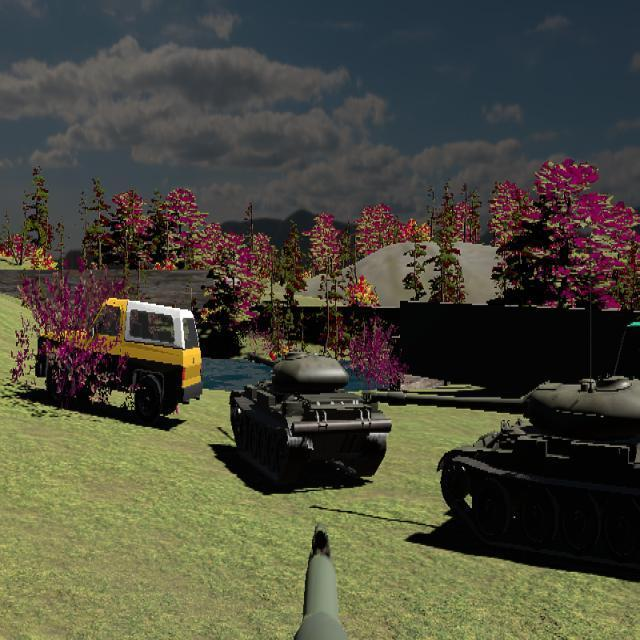Tank: (368, 371, 640, 577), (229, 348, 394, 487)
car: (35, 296, 204, 421), (35, 297, 203, 422)
